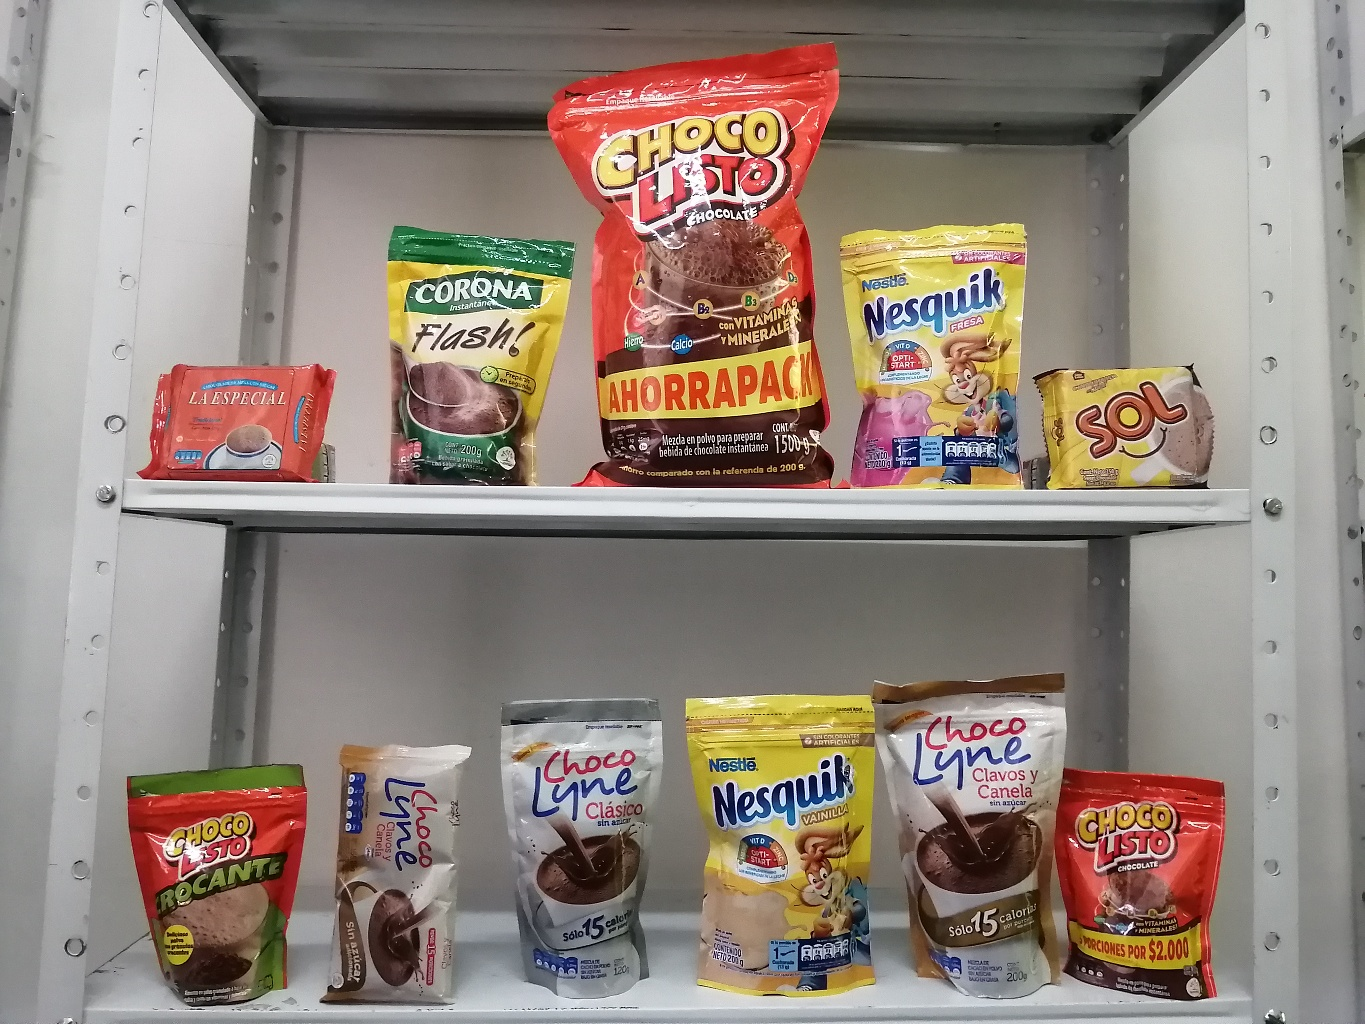COL0170102DYP10000: (111, 742, 331, 1018)
COL0170103DYP1,500: (520, 24, 881, 498)
COL0170305DYP20000: (810, 200, 1076, 509)
COL0170306DYP20000: (656, 662, 913, 1007)
